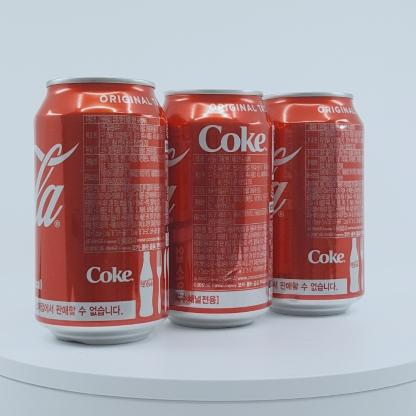----355ML: (33, 77, 168, 345), (149, 89, 274, 328), (253, 92, 365, 316)
